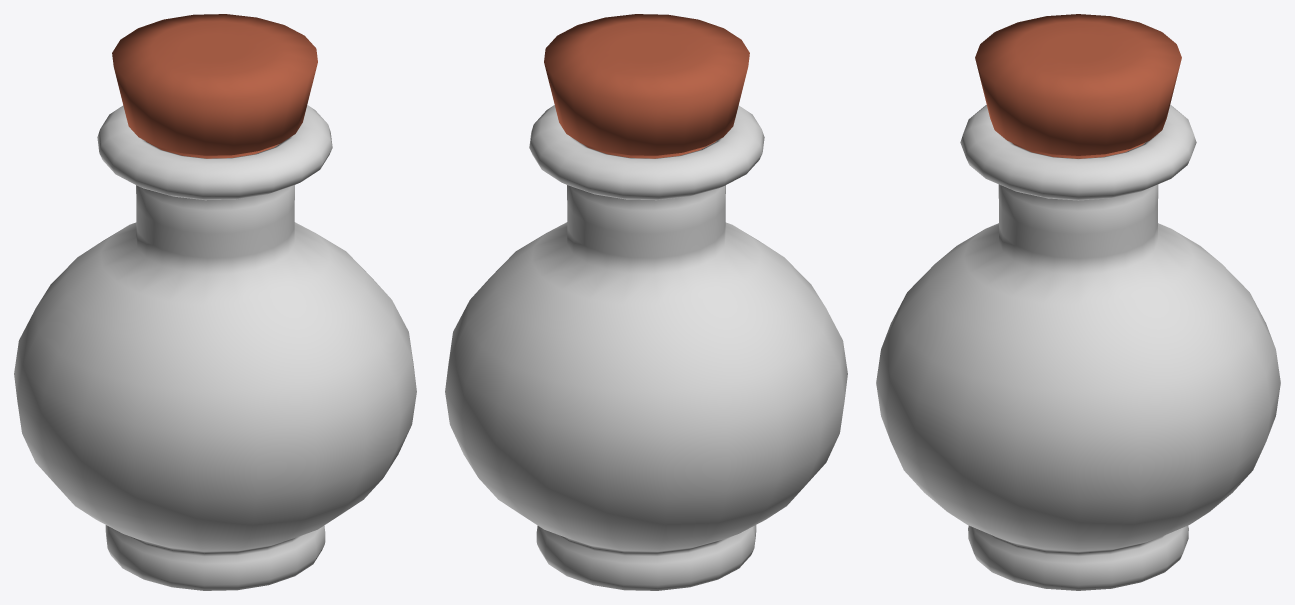
3 renders of one model, left to right at view 1: azimuth 30°, elevation 25°; view 2: azimuth 150°, elevation 25°; view 3: azimuth 270°, elevation 25°, orthographic.
Parts seen in each view (by area): view 1: Bottle, Bottle_cap; view 2: Bottle, Bottle_cap; view 3: Bottle, Bottle_cap.
Boxes of the visible parts, left/top/right/bottom form: Bottle: left=14, top=105, right=416, bottom=590; Bottle_cap: left=112, top=14, right=317, bottom=158; Bottle: left=445, top=105, right=847, bottom=590; Bottle_cap: left=544, top=14, right=749, bottom=158; Bottle: left=876, top=105, right=1280, bottom=590; Bottle_cap: left=975, top=14, right=1181, bottom=158.
Size of the model in its own units: 14.53 by 19.9 by 14.53.
